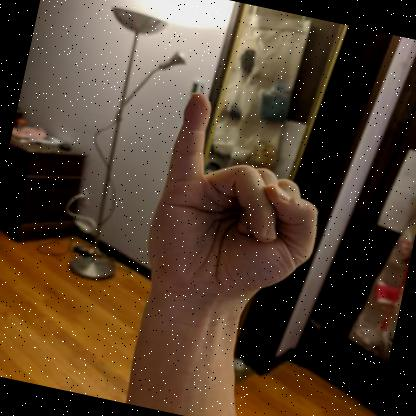I: (147, 92, 317, 314)
